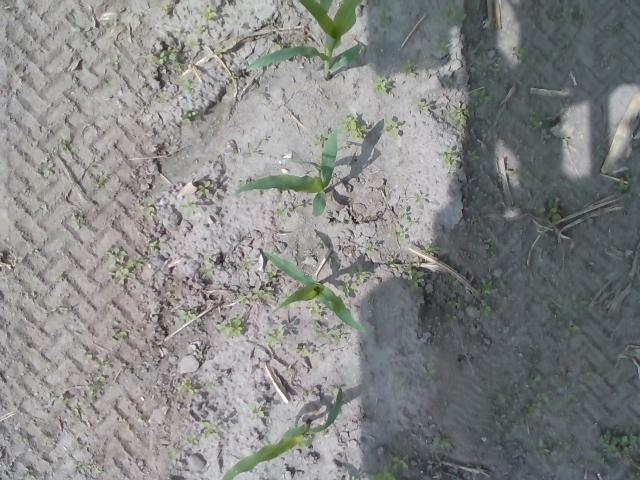Maize: (218, 386, 344, 480), (258, 247, 372, 341), (245, 0, 367, 83), (230, 130, 340, 218)
Weeds: (599, 430, 640, 480), (107, 246, 146, 288), (526, 370, 552, 417), (336, 264, 371, 295), (337, 110, 369, 142), (533, 196, 565, 224), (393, 206, 418, 241), (526, 113, 552, 145), (494, 392, 514, 433), (449, 98, 473, 130), (612, 171, 638, 199), (440, 1, 470, 24), (533, 440, 575, 456), (271, 201, 305, 218), (239, 288, 273, 304), (317, 330, 348, 346), (176, 376, 199, 396), (148, 49, 178, 64), (222, 318, 244, 338), (406, 268, 426, 289), (469, 88, 492, 106), (430, 434, 454, 451), (478, 276, 498, 296), (372, 76, 391, 97), (570, 290, 589, 311), (560, 320, 582, 338), (266, 322, 284, 344), (365, 468, 396, 480), (442, 150, 459, 170), (390, 453, 410, 470), (180, 200, 198, 218), (202, 418, 218, 438), (382, 118, 399, 136), (375, 8, 391, 26), (197, 265, 215, 281), (481, 61, 504, 73), (420, 364, 436, 380), (248, 403, 265, 418), (478, 300, 492, 318), (177, 308, 196, 321), (196, 180, 210, 197), (446, 296, 462, 310), (59, 143, 77, 154), (436, 39, 450, 53), (202, 6, 216, 20), (308, 304, 324, 316), (180, 78, 193, 92), (404, 63, 416, 78), (313, 135, 328, 147), (466, 150, 480, 162), (264, 270, 278, 282), (212, 46, 224, 60), (423, 244, 441, 253), (182, 110, 198, 120), (384, 258, 398, 269), (416, 101, 430, 111), (174, 62, 187, 72), (444, 312, 458, 321), (80, 351, 93, 360), (187, 435, 198, 445), (196, 25, 206, 35), (366, 243, 376, 252), (158, 3, 168, 12), (473, 119, 481, 130), (448, 274, 456, 284), (44, 168, 54, 176), (190, 40, 198, 49), (118, 330, 126, 338), (196, 352, 204, 360), (272, 44, 280, 50), (349, 475, 356, 480)
